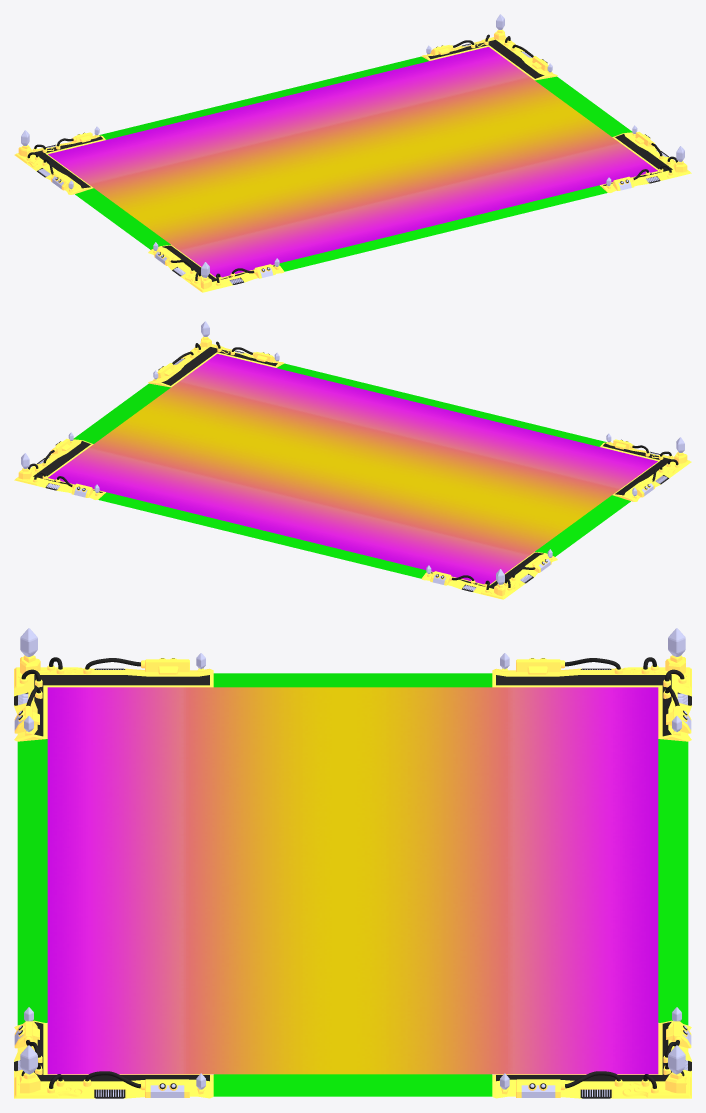
The model's file is NFT_golden_12x8.fbx.
3 renders of one model, top to bottom at view 1: azimuth 30°, elevation 25°; view 2: azimuth 150°, elevation 25°; view 3: azimuth 270°, elevation 25°, orthographic. The views are drawn at different scales.
Parts seen in each view (by area): view 1: _screen_low1, walkways, frame_main (×4); view 2: _screen_low1, walkways, frame_main (×4); view 3: _screen_low1, walkways, frame_main (×4), cabinet1 (×2).
Boxes of the visible parts, x1=… form: _screen_low1: x1=48, y1=47, x2=657, y2=277; walkways: x1=75, y1=56, x2=632, y2=271; frame_main (×4): x1=14, y1=39, x2=691, y2=292; _screen_low1: x1=48, y1=354, x2=657, y2=584; walkways: x1=73, y1=363, x2=630, y2=578; frame_main (×4): x1=14, y1=346, x2=691, y2=599; _screen_low1: x1=47, y1=687, x2=658, y2=1074; walkways: x1=17, y1=673, x2=688, y2=1096; frame_main (×4): x1=14, y1=668, x2=691, y2=1098; cabinet1 (×2): x1=145, y1=1079, x2=560, y2=1097.
Size of the model in its own units: 472 by 25.22 by 315.
Materials: 5 (1 with a texture image).
